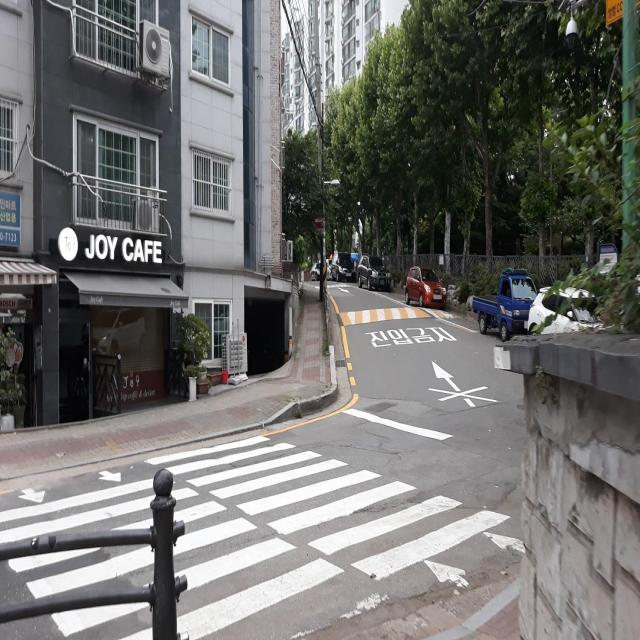횡단보도: (0, 428, 529, 640)
